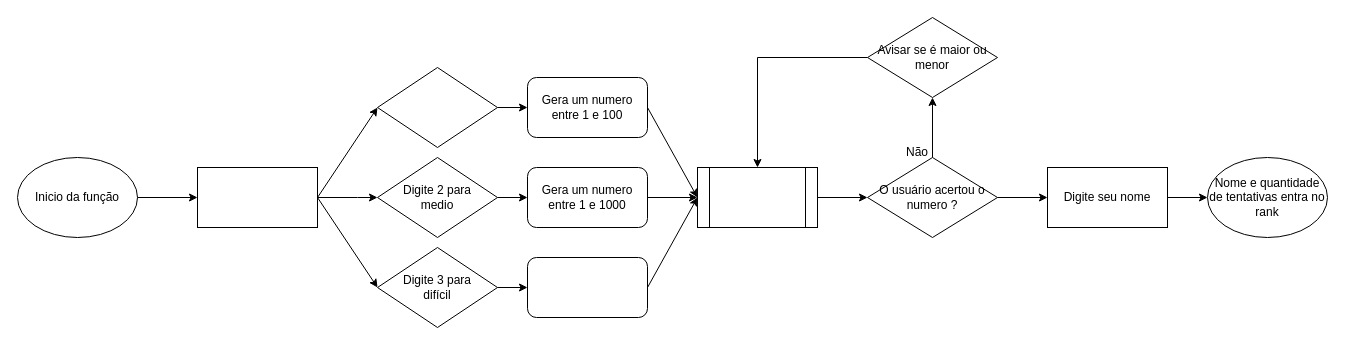
The diagram is 1345 pixels wide and 345 high, and some of its shapes have lost their labels. Here are the shapes that lost their labels. From the top down, the box of each, then its label:
(376, 66, 498, 148): Digite 1 para fácil
(196, 166, 318, 228): Escolher dificuldade
(696, 166, 818, 228): Usuário digita um numero
(526, 256, 648, 318): Gera um numero entre 1 e 10000
